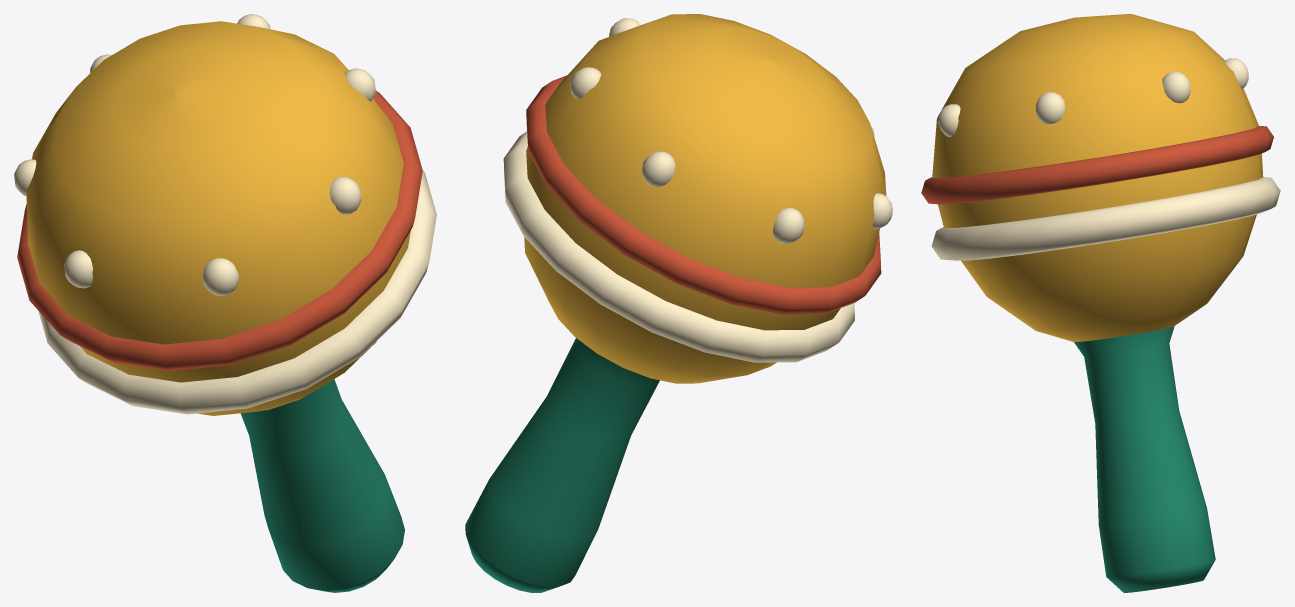
The model's file is maraca.glb.
3 views of the same model, side by side, from view 1: azimuth 30°, elevation 25°; view 2: azimuth 150°, elevation 25°; view 3: azimuth 270°, elevation 25° (orthographic). The views are drawn at different scales.
Visible parts, largest first — view 1: maraca; view 2: maraca; view 3: maraca.
Boxes of the visible parts, bbox=[...] form: maraca: bbox=[14, 14, 436, 592]; maraca: bbox=[465, 14, 892, 592]; maraca: bbox=[921, 14, 1280, 592].
Bounding box in the file's own units: 0.6185 × 0.9078 × 0.5825.
